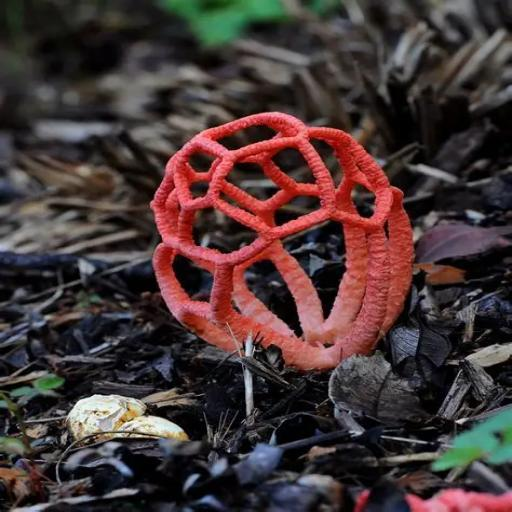mushroom: (148, 113, 415, 367)
